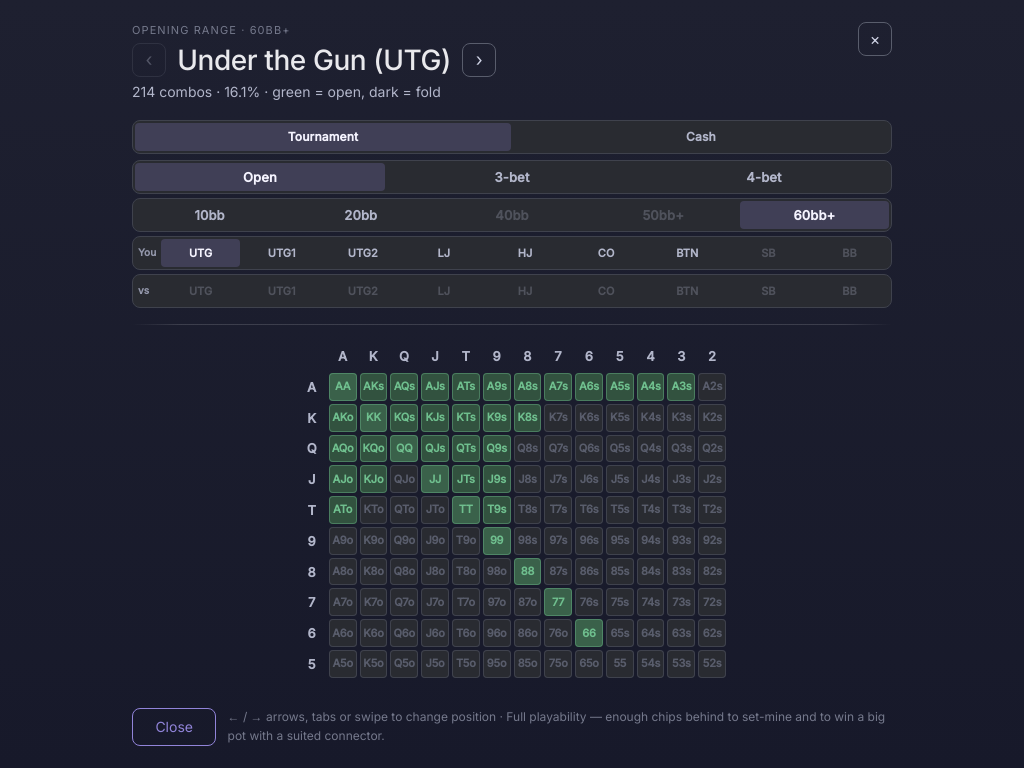
ChartBrowser (menu) › picks a 3-bet pair by your seat and the opener, with the BTN-only 50bb+ pack
Click the tab "CO" in the row of "You".
click(606, 252)  # box [566,238,646,266]
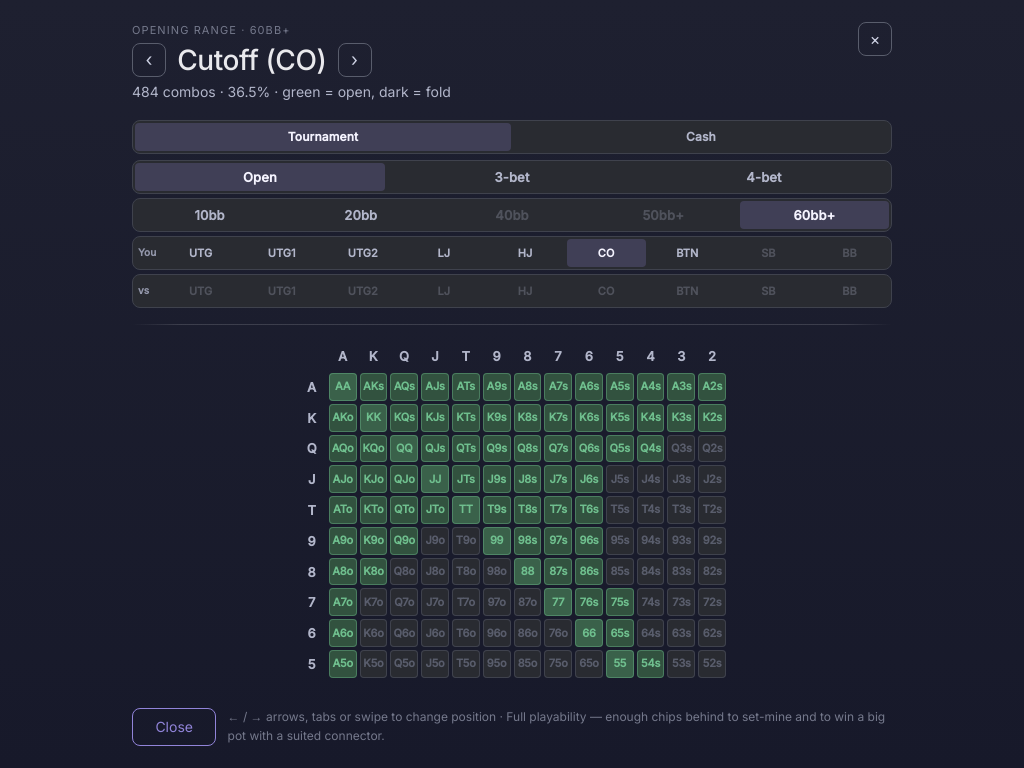
Click the tab "3-bet".
click(512, 176)  # box [387,162,637,190]
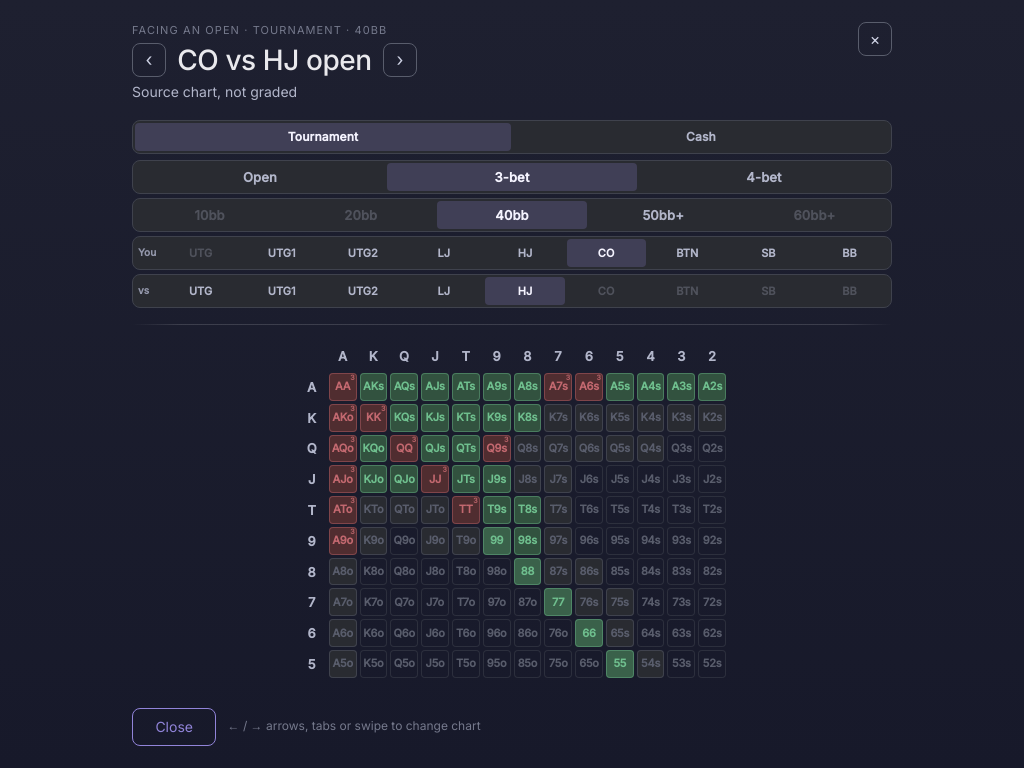
Expected: the tab "40bb" is shown, [437,200,587,228]
Expected: the heading reads "CO vs HJ open", [177,43,372,77]
Click the 2nd tab "UTG".
click(201, 290)  # box [161,276,240,304]
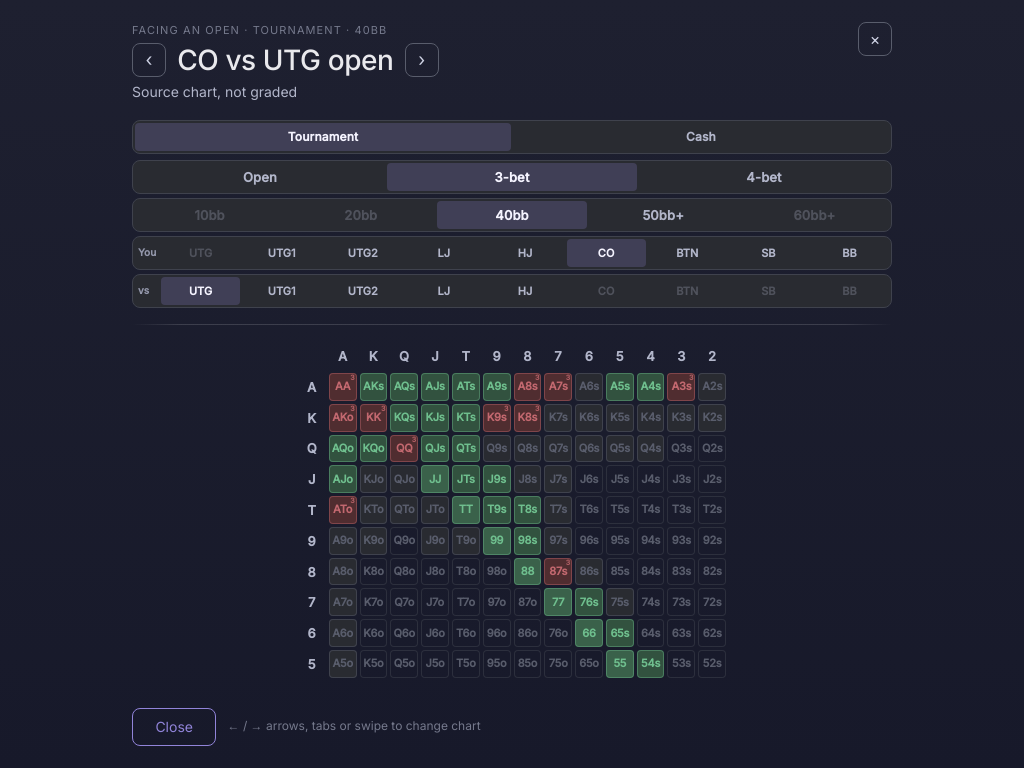
Expected: the heading reads "CO vs UTG open", [177,43,394,77]
Click the tab "50bb+".
click(663, 214)  # box [589,200,738,228]
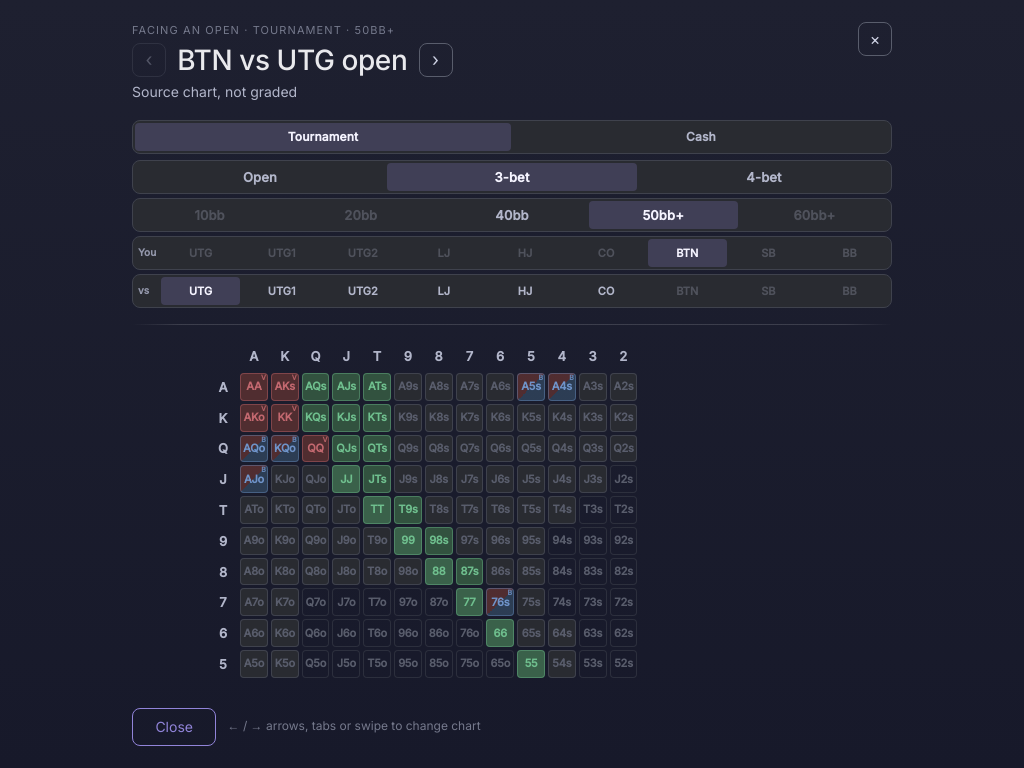
Expected: the heading reads "BTN vs UTG open", [177,43,407,77]
